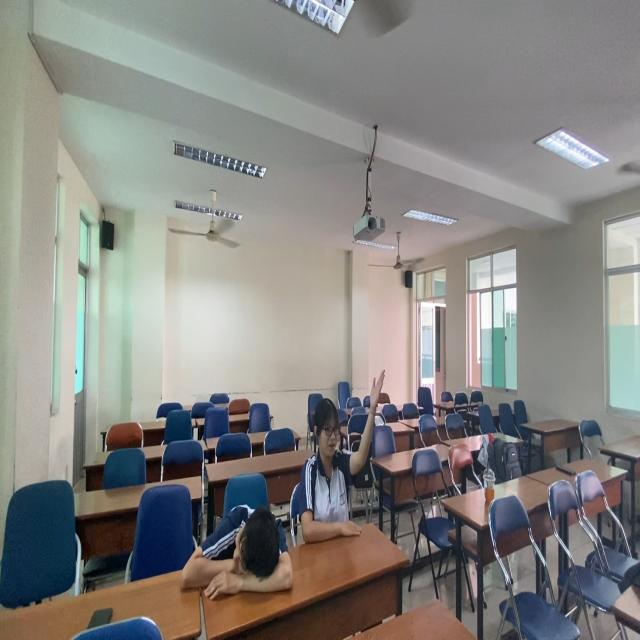raise_hand: (302, 363, 390, 546)
sleep: (178, 507, 296, 597)
